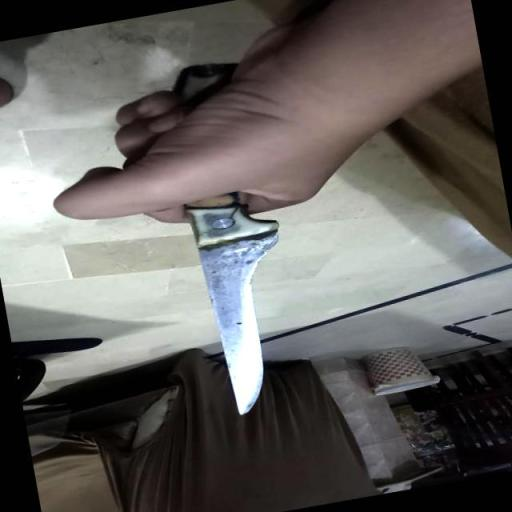knife: (134, 44, 332, 432)
